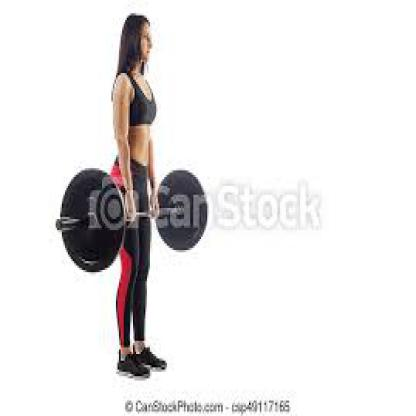Barbell: (58, 166, 128, 277)
